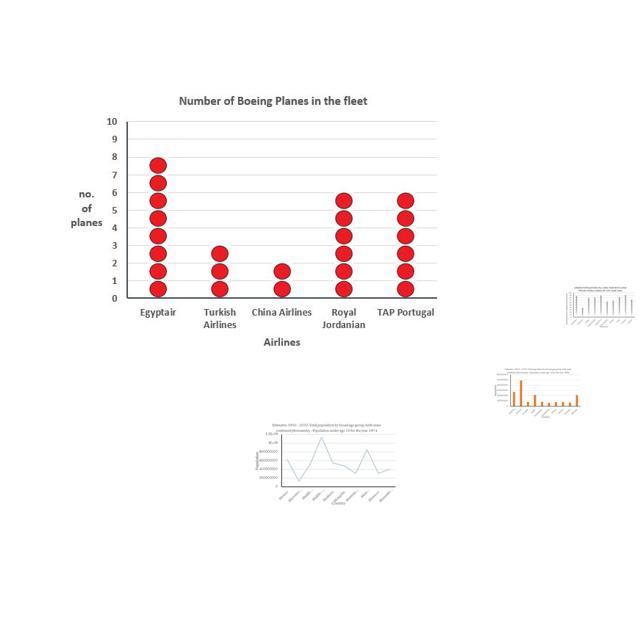Graph: (67, 88, 440, 356), (254, 422, 398, 506), (494, 367, 582, 419), (565, 286, 636, 328)
